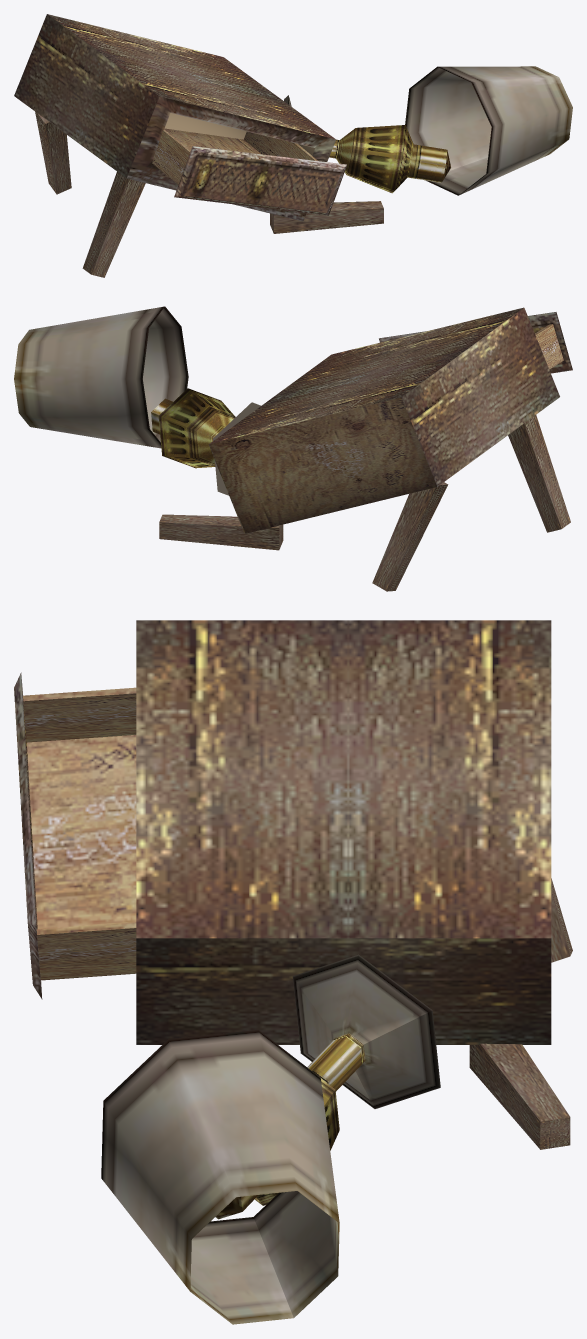
The model's file is Table03.glb.
3 renders of one model, top to bottom at view 1: azimuth 30°, elevation 25°; view 2: azimuth 150°, elevation 25°; view 3: azimuth 270°, elevation 25°, orthographic. The views are drawn at different scales.
Visible parts, largest first — view 1: _Table03; view 2: _Table03; view 3: _Table03.
Part boxes in pixels (bbox=[...]): _Table03: bbox=[14, 14, 572, 277]; _Table03: bbox=[14, 306, 572, 591]; _Table03: bbox=[14, 620, 572, 1324].
Size of the model in its own units: 2.16 by 0.7983 by 1.17.
1 material, 1 textured.
